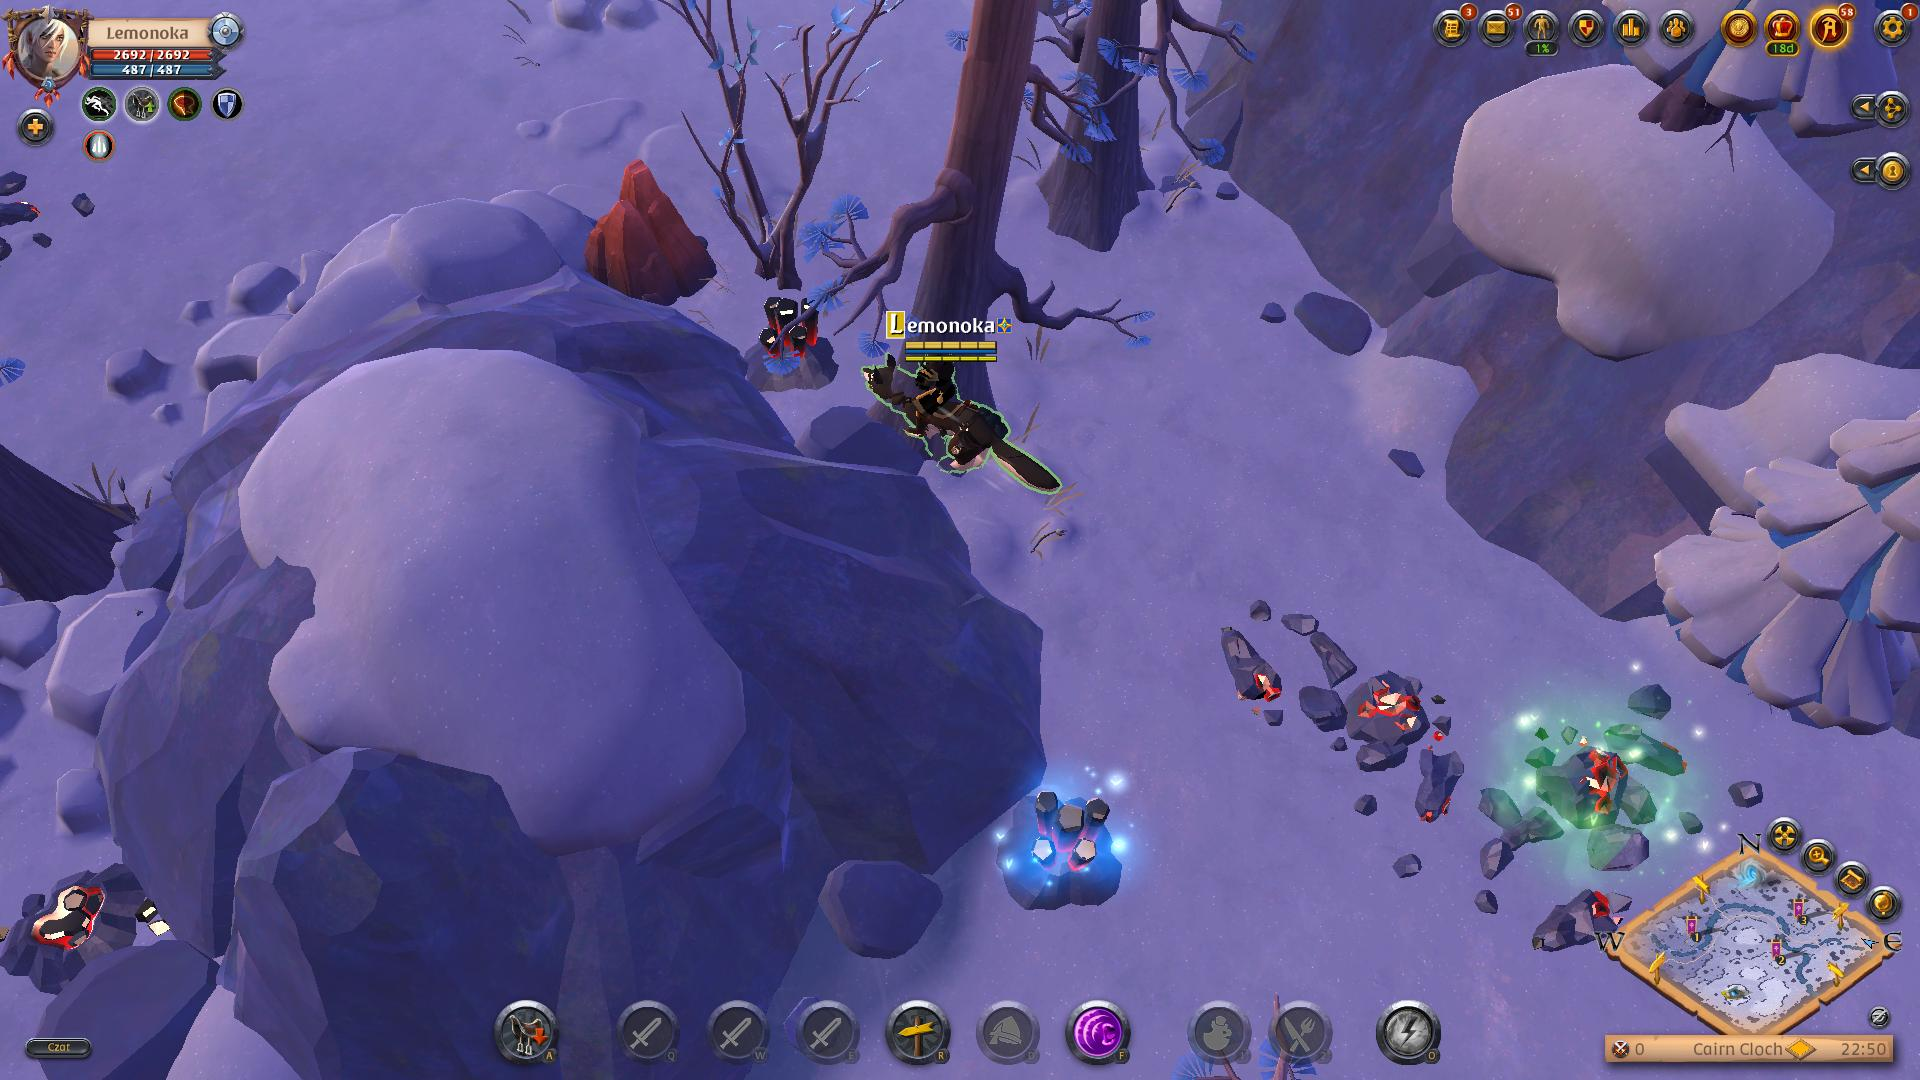ore tier 5: (998, 781, 1129, 914)
rock tier 5: (575, 157, 719, 315)
